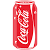coke: (16, 7, 30, 45)
